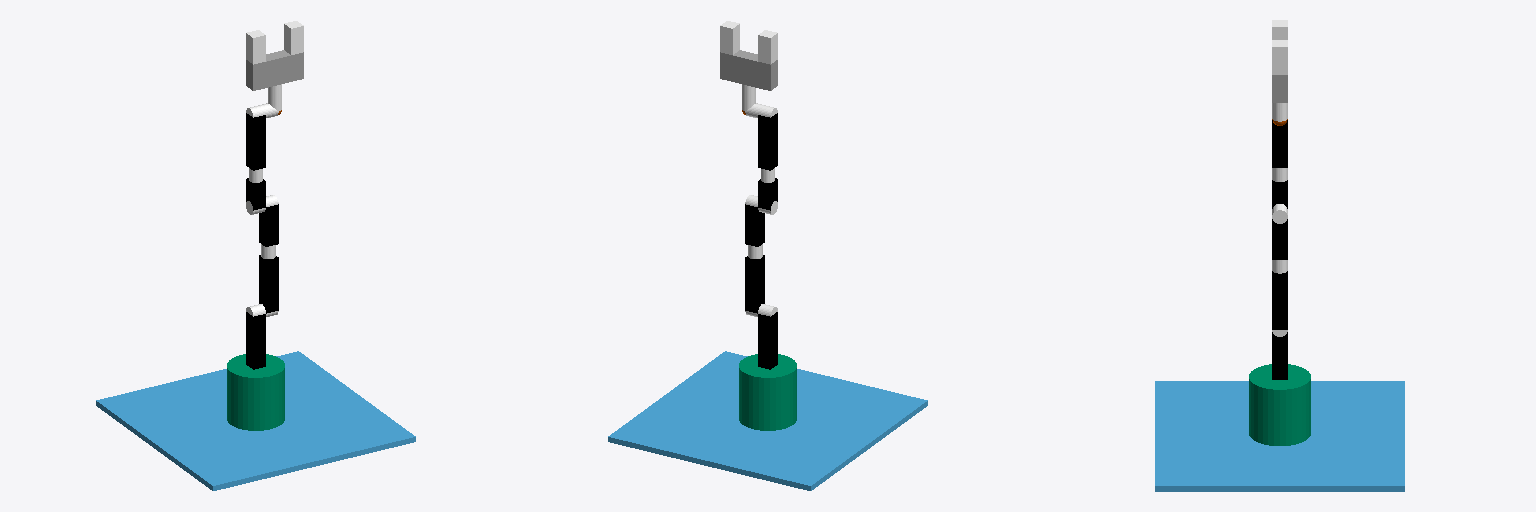
The robot description file, URDF, robot "panda_based_arm":
<?xml version="1.0" encoding="utf-8"?>
<!-- =================================================================================== -->
<!-- |    This document was autogenerated by xacro from urdf/panda_based_arm.xacro     | -->
<!-- |    EDITING THIS FILE BY HAND IS NOT RECOMMENDED                                 | -->
<!-- =================================================================================== -->
<robot name="panda_based_arm">
  <material name="Black">
    <color rgba="0 0 0 1"/>
  </material>
  <material name="White">
    <color rgba="1 1 1 1"/>
  </material>
  <link name="origin">
      <origin xyz="0 0 0.005"/>
  </link>
  <joint name="rotating_base" type="revolute">
    <parent link="origin"/>
    <child link="base_link"/>
    <origin xyz="0 0 0"/>
    <axis xyz="0 0 1"/>
    <limit effort="300" lower="-3.14" upper="3.14" velocity="0.1"/>
  </joint>
  <link name="base_link">
    <visual>
      <geometry>
        <box size="0.4 0.4 0.01"/>
      </geometry>
      <origin xyz="0 0 0.005"/>
    </visual>
  </link>
  <joint name="base-link_1" type="revolute">
    <parent link="base_link"/>
    <child link="link_1"/>
    <origin xyz="0 0 0.01"/>
    <axis xyz="0 0 1"/>
    <limit effort="300" lower="-3.14" upper="3.14" velocity="0.1"/>
  </joint>
  <link name="link_1">
    <visual>
      <geometry>
        <cylinder length="0.1" radius="0.05"/>
      </geometry>
      <origin xyz="0 0 0.05"/>
    </visual>
  </link>
  <joint name="link_1-link_2" type="fixed">
    <parent link="link_1"/>
    <child link="link_2"/>
    <origin xyz="0 0 0.1"/>
  </joint>
  <link name="link_2">
    <visual>
      <geometry>
        <box size="0.025 0.025 0.1"/>
      </geometry>
      <origin rpy="0 0 0" xyz="0 0 0.05"/>
      <material name="Black"/>
    </visual>
  </link>
  <joint name="link_2-link_3" type="revolute">
    <parent link="link_2"/>
    <child link="link_3"/>
    <origin xyz="0.0125 0 0.1"/>
    <axis xyz="1 0 0"/>
    <limit effort="300" lower="0" upper="1.57" velocity="0.1"/>
  </joint>
  <link name="link_3">
    <visual>
      <geometry>
        <cylinder length="0.05" radius="0.0125"/>
      </geometry>
      <origin rpy="0 1.57 0" xyz="0 0 0"/>
      <material name="White"/>
    </visual>
  </link>
  <joint name="link_3-link_4" type="fixed">
    <parent link="link_3"/>
    <child link="link_4"/>
    <origin xyz="0 0 0"/>
  </joint>
  <link name="link_4">
    <visual>
      <geometry>
        <box size="0.025 0.025 0.1"/>
      </geometry>
      <origin rpy="0 0 0" xyz="0.0125 0 0.05"/>
      <material name="Black"/>
    </visual>
  </link>
  <joint name="link_4-link_5" type="revolute">
    <parent link="link_4"/>
    <child link="link_5"/>
    <origin xyz="0.0125 0 0.1"/>
    <axis xyz="0 0 1"/>
    <limit effort="300" lower="-1.57" upper="1.57" velocity="0.1"/>
  </joint>
  <link name="link_5">
    <visual>
      <geometry>
        <cylinder length="0.025" radius="0.0125"/>
      </geometry>
      <origin rpy="0 0 0" xyz="0 0 0.0125"/>
      <material name="White"/>
    </visual>
  </link>
  <joint name="link_5-link_6" type="fixed">
    <parent link="link_5"/>
    <child link="link_6"/>
    <origin xyz="0 0 0.025"/>
  </joint>
  <link name="link_6">
    <visual>
      <geometry>
        <box size="0.025 0.025 0.075"/>
      </geometry>
      <origin rpy="0 0 0" xyz="0 0 0.0375"/>
      <material name="Black"/>
    </visual>
  </link>
  <joint name="link_6-link_7" type="revolute">
    <parent link="link_6"/>
    <child link="link_7"/>
    <origin xyz="-0.0125 0 0.075"/>
    <axis xyz="1 0 0"/>
    <limit effort="300" lower="-1.57" upper="1.57" velocity="0.1"/>
  </joint>
  <link name="link_7">
    <visual>
      <geometry>
        <cylinder length="0.05" radius="0.0125"/>
      </geometry>
      <origin rpy="0 1.57 0" xyz="0 0 0"/>
      <material name="White"/>
    </visual>
  </link>
  <joint name="link_7-link_8" type="fixed">
    <parent link="link_7"/>
    <child link="link_8"/>
    <origin xyz="0 0 0"/>
  </joint>
  <link name="link_8">
    <visual>
      <geometry>
        <box size="0.025 0.025 0.05"/>
      </geometry>
      <origin rpy="0 0 0" xyz="-0.0125 0 0.025"/>
      <material name="Black"/>
    </visual>
  </link>
  <joint name="link_8-link_9" type="revolute">
    <parent link="link_8"/>
    <child link="link_9"/>
    <origin xyz="-0.0125 0 0.05"/>
    <axis xyz="0 0 1"/>
    <limit effort="300" lower="-1.57" upper="1.57" velocity="0.1"/>
  </joint>
  <link name="link_9">
    <visual>
      <geometry>
        <cylinder length="0.025" radius="0.0125"/>
      </geometry>
      <origin rpy="0 0 0" xyz="0 0 0.0125"/>
      <material name="White"/>
    </visual>
  </link>
  <joint name="link_9-link_10" type="fixed">
    <parent link="link_9"/>
    <child link="link_10"/>
    <origin xyz="0 0 0.025"/>
  </joint>
  <link name="link_10">
    <visual>
      <geometry>
        <box size="0.025 0.025 0.1"/>
      </geometry>
      <origin rpy="0 0 0" xyz="0 0 0.05"/>
      <material name="Black"/>
    </visual>
  </link>
  <joint name="link_10-link_11" type="revolute">
    <parent link="link_10"/>
    <child link="link_11"/>
    <origin xyz="0.0125 0 0.1"/>
    <axis xyz="1 0 0"/>
    <limit effort="300" lower="-1.57" upper="1.57" velocity="0.1"/>
  </joint>
  <link name="link_11">
    <visual>
      <geometry>
        <cylinder length="0.05" radius="0.0125"/>
      </geometry>
      <origin rpy="0 1.57 0" xyz="0 0 0"/>
      <material name="White"/>
    </visual>
  </link>
  <joint name="link_11-link_12" type="fixed">
    <parent link="link_11"/>
    <child link="link_12"/>
    <origin xyz="0.025 0 0"/>
  </joint>
  <link name="link_12">
    <visual>
      <geometry>
        <sphere radius="0.0125"/>
      </geometry>
      <origin xyz="0 0 0"/>
    </visual>
  </link>
  <joint name="link_12-link_13" type="revolute">
    <parent link="link_12"/>
    <child link="link_13"/>
    <origin xyz="0 0 0"/>
    <axis xyz="0 0 1"/>
    <limit effort="300" lower="-3.14" upper="3.14" velocity="0.1"/>
  </joint>
  <link name="link_13">
    <visual>
      <geometry>
        <cylinder length="0.05" radius="0.0125"/>
      </geometry>
      <origin rpy="0 0 0" xyz="0 0 0.025"/>
      <material name="White"/>
    </visual>
  </link>
  <joint name="link_13-hand" type="fixed">
    <parent link="link_13"/>
    <child link="hand"/>
    <origin xyz="0 0 0.05"/>
  </joint>
  <link name="hand">
    <visual>
      <geometry>
        <box size="0.1 0.025 0.05"/>
      </geometry>
      <origin xyz="0 0 0.025"/>
    </visual>
  </link>
  <joint name="hand-gripper_link_1" type="prismatic">
    <parent link="hand"/>
    <child link="gripper_link_1"/>
    <origin xyz="0.0375 0 0.05"/>
    <axis xyz="1 0 0"/>
    <limit effort="100" lower="0" upper="-0.025" velocity="1.0"/>
  </joint>
  <link name="gripper_link_1">
    <visual>
      <geometry>
        <box size="0.025 0.025 0.05"/>
      </geometry>
      <origin rpy="0 0 0" xyz="0 0 0.025"/>
      <material name="White"/>
    </visual>
  </link>
  <joint name="hand-gripper_link_2" type="prismatic">
    <parent link="hand"/>
    <child link="gripper_link_2"/>
    <origin xyz="-0.0375 0 0.05"/>
    <axis xyz="1 0 0"/>
    <limit effort="100" lower="0" upper="0.025" velocity="1.0"/>
  </joint>
  <link name="gripper_link_2">
    <visual>
      <geometry>
        <box size="0.025 0.025 0.05"/>
      </geometry>
      <origin rpy="0 0 0" xyz="0 0 0.025"/>
      <material name="White"/>
    </visual>
  </link>
</robot>

--- Render facts (derived) ---
3 views of the same robot in one strip: view 1: azimuth 30°, elevation 25°; view 2: azimuth 150°, elevation 25°; view 3: azimuth 270°, elevation 25° (orthographic).
Model panda_based_arm with 18 links and 17 joints (8 revolute, 2 prismatic, 7 fixed), rooted at origin, posed all joints at 0.
Links seen in each view (by area): view 1: base_link, link_1, hand, link_2, link_10, link_4, link_6, gripper_link_1, gripper_link_2; view 2: base_link, link_1, hand, link_2, link_10, link_4, link_6, gripper_link_1, gripper_link_2; view 3: base_link, link_1, link_4, link_2, link_10, link_6, gripper_link_1.
Boxes of the visible links, x1=… form: base_link: x1=96, y1=351, x2=415, y2=490; link_1: x1=227, y1=354, x2=284, y2=430; hand: x1=246, y1=50, x2=303, y2=90; link_2: x1=246, y1=312, x2=265, y2=369; link_10: x1=246, y1=113, x2=265, y2=170; link_4: x1=259, y1=255, x2=278, y2=313; link_6: x1=259, y1=204, x2=278, y2=246; gripper_link_1: x1=284, y1=21, x2=303, y2=54; gripper_link_2: x1=246, y1=30, x2=265, y2=64; base_link: x1=608, y1=351, x2=927, y2=490; link_1: x1=739, y1=354, x2=796, y2=430; hand: x1=720, y1=50, x2=777, y2=90; link_2: x1=758, y1=312, x2=777, y2=369; link_10: x1=758, y1=113, x2=777, y2=170; link_4: x1=745, y1=255, x2=764, y2=313; link_6: x1=745, y1=204, x2=764, y2=246; gripper_link_1: x1=720, y1=21, x2=739, y2=54; gripper_link_2: x1=758, y1=30, x2=777, y2=64; base_link: x1=1155, y1=381, x2=1404, y2=491; link_1: x1=1249, y1=364, x2=1310, y2=445; link_4: x1=1272, y1=271, x2=1287, y2=329; link_2: x1=1272, y1=332, x2=1287, y2=379; link_10: x1=1272, y1=120, x2=1287, y2=167; link_6: x1=1272, y1=219, x2=1287, y2=259; gripper_link_1: x1=1272, y1=40, x2=1287, y2=74.
Bounding box of the posed robot: 0.4 × 0.4 × 0.735 m (x, y, z).
Geometry: primitives only (box / cylinder / sphere), no mesh files.
